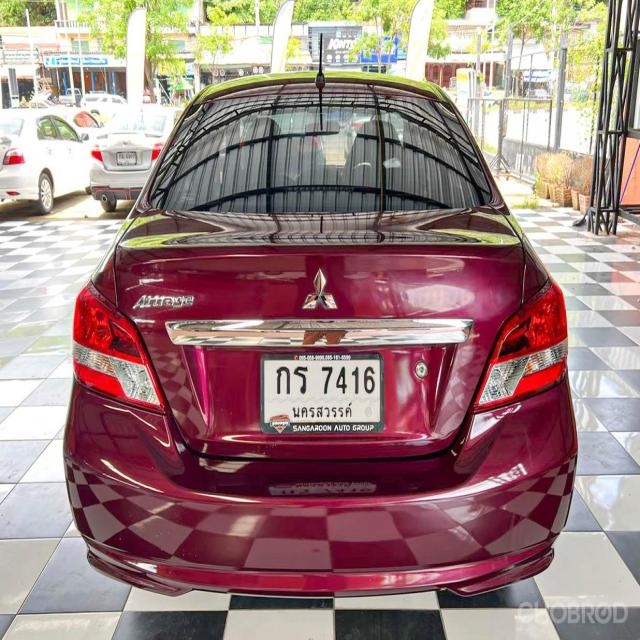license_plate: (260, 352, 384, 437), (115, 149, 139, 168)
